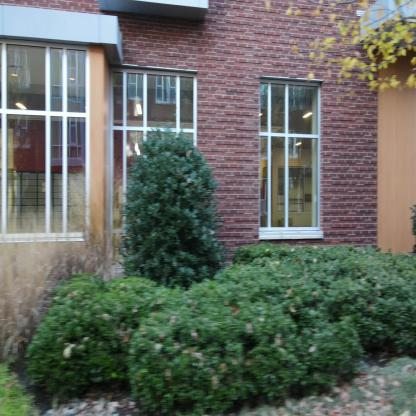Wolf Ridge: (1, 4, 415, 295)
